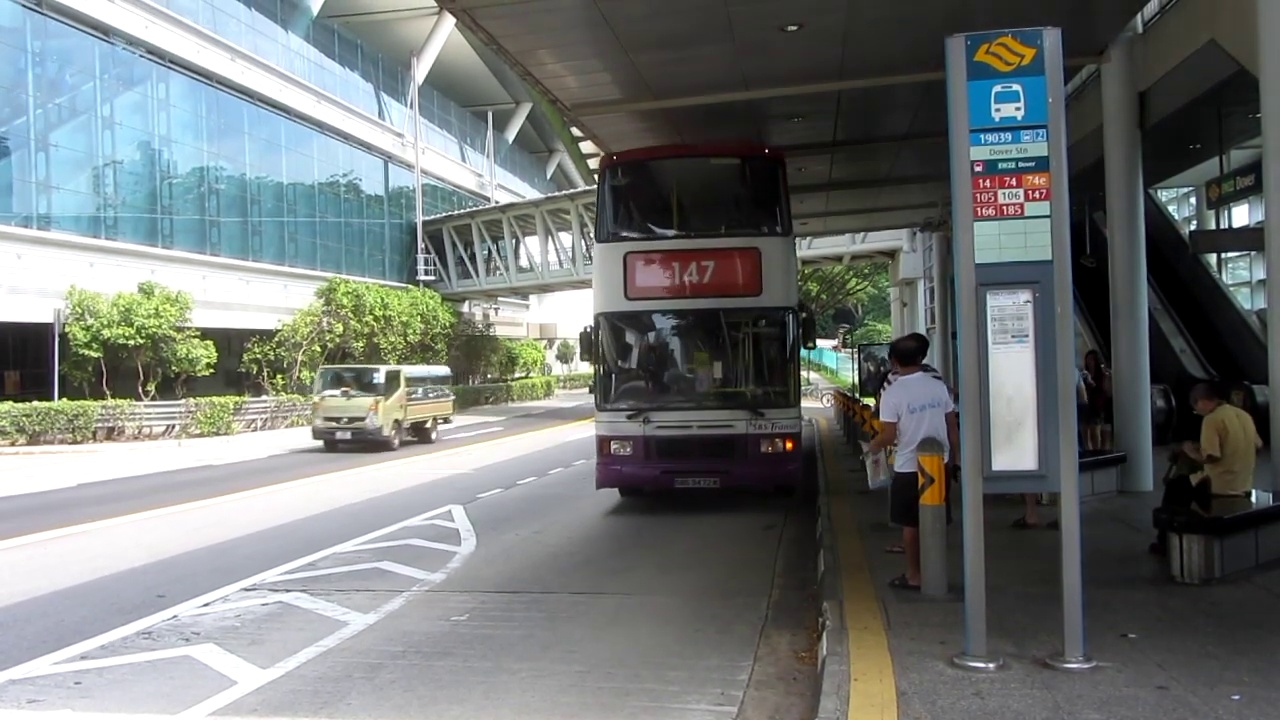bus panel: (621, 246, 765, 302)
